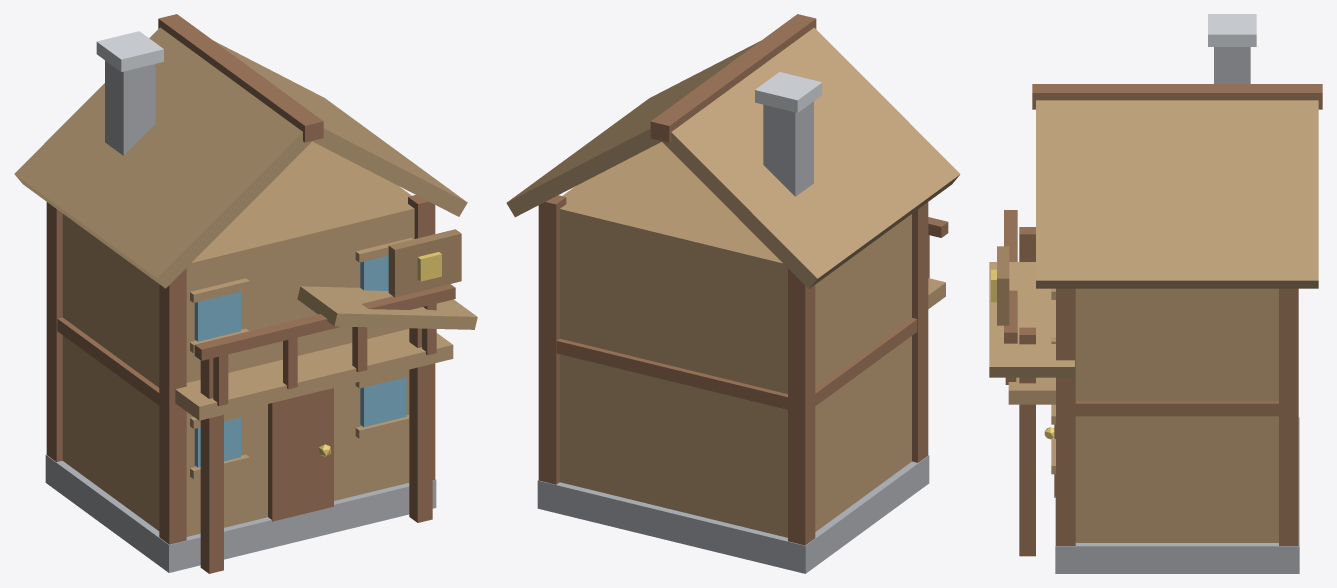
Rendered from inn.glb.
3 views of the same model, side by side, from view 1: azimuth 30°, elevation 25°; view 2: azimuth 150°, elevation 25°; view 3: azimuth 270°, elevation 25° (orthographic).
Parts seen in each view (by area): view 1: walls.001, roof_l.001, foundation.001, balcony_floor, door.003, beam, roof_r.001, porch_awning, porch_post.002, beam.001, ridge.001, porch_post.003 (+16 smaller); view 2: walls.001, roof_l.001, foundation.001, beam.001, roof_r.001, beam.003, floor_band, ridge.001, beam, chimney.002, chimney_cap.001; view 3: roof_r.001, walls.001, foundation.001, porch_awning, beam.003, ridge.001, beam.002, floor_band, porch_post.003, chimney_cap.001, chimney.002, balcony_rail (+3 smaller).
Boxes of the visible parts, x1,y1,x2,y2 form: walls.001: [62, 141, 414, 536]; roof_l.001: [14, 27, 312, 288]; foundation.001: [45, 454, 436, 572]; balcony_floor: [175, 329, 453, 420]; door.003: [268, 388, 333, 521]; beam: [159, 268, 186, 544]; roof_r.001: [214, 41, 467, 216]; porch_awning: [297, 286, 477, 329]; porch_post.002: [200, 358, 223, 573]; beam.001: [46, 202, 62, 461]; ridge.001: [158, 14, 323, 142]; porch_post.003: [409, 328, 432, 522]; walls.001: [559, 142, 911, 537]; roof_l.001: [662, 27, 960, 288]; foundation.001: [537, 455, 929, 573]; beam.001: [788, 268, 815, 545]; roof_r.001: [506, 41, 759, 217]; beam.003: [538, 195, 566, 484]; floor_band: [556, 318, 917, 409]; ridge.001: [650, 14, 816, 142]; beam: [912, 202, 928, 462]; chimney.002: [763, 101, 813, 196]; chimney_cap.001: [755, 72, 822, 112]; roof_r.001: [1036, 100, 1318, 288]; walls.001: [1075, 288, 1278, 542]; foundation.001: [1055, 417, 1299, 573]; porch_awning: [989, 262, 1074, 377]; beam.003: [1279, 288, 1298, 545]; ridge.001: [1032, 84, 1322, 109]; beam.002: [1056, 288, 1075, 545]; floor_band: [1075, 401, 1278, 416]; porch_post.003: [1019, 327, 1035, 556]; chimney_cap.001: [1208, 14, 1256, 46]; chimney.002: [1214, 47, 1250, 83]; balcony_rail: [1004, 210, 1017, 343].
Bounding box in the file's own units: 2.32 × 3.22 × 2.18.
